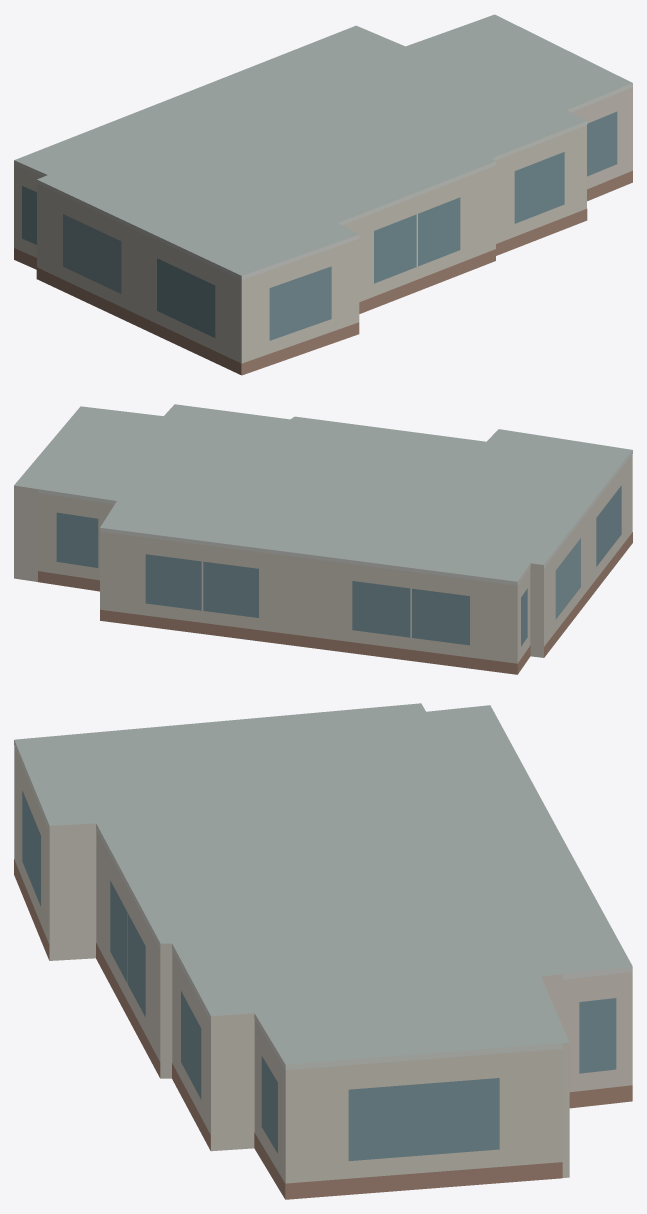
Rendered from survey-upis-33035287.glb.
3 renders of one model, top to bottom at view 1: azimuth 30°, elevation 25°; view 2: azimuth 150°, elevation 25°; view 3: azimuth 270°, elevation 25°, orthographic. The views are drawn at different scales.
Parts seen in each view (by area): view 1: survey-upis-33035287.tmp; view 2: survey-upis-33035287.tmp; view 3: survey-upis-33035287.tmp.
Part boxes in pixels (box(x1,y1,x2,y2)): survey-upis-33035287.tmp: box(14, 14, 632, 375); survey-upis-33035287.tmp: box(14, 404, 632, 674); survey-upis-33035287.tmp: box(14, 703, 632, 1199).
Bounding box in the file's own units: 17.52 × 3.05 × 12.67.
